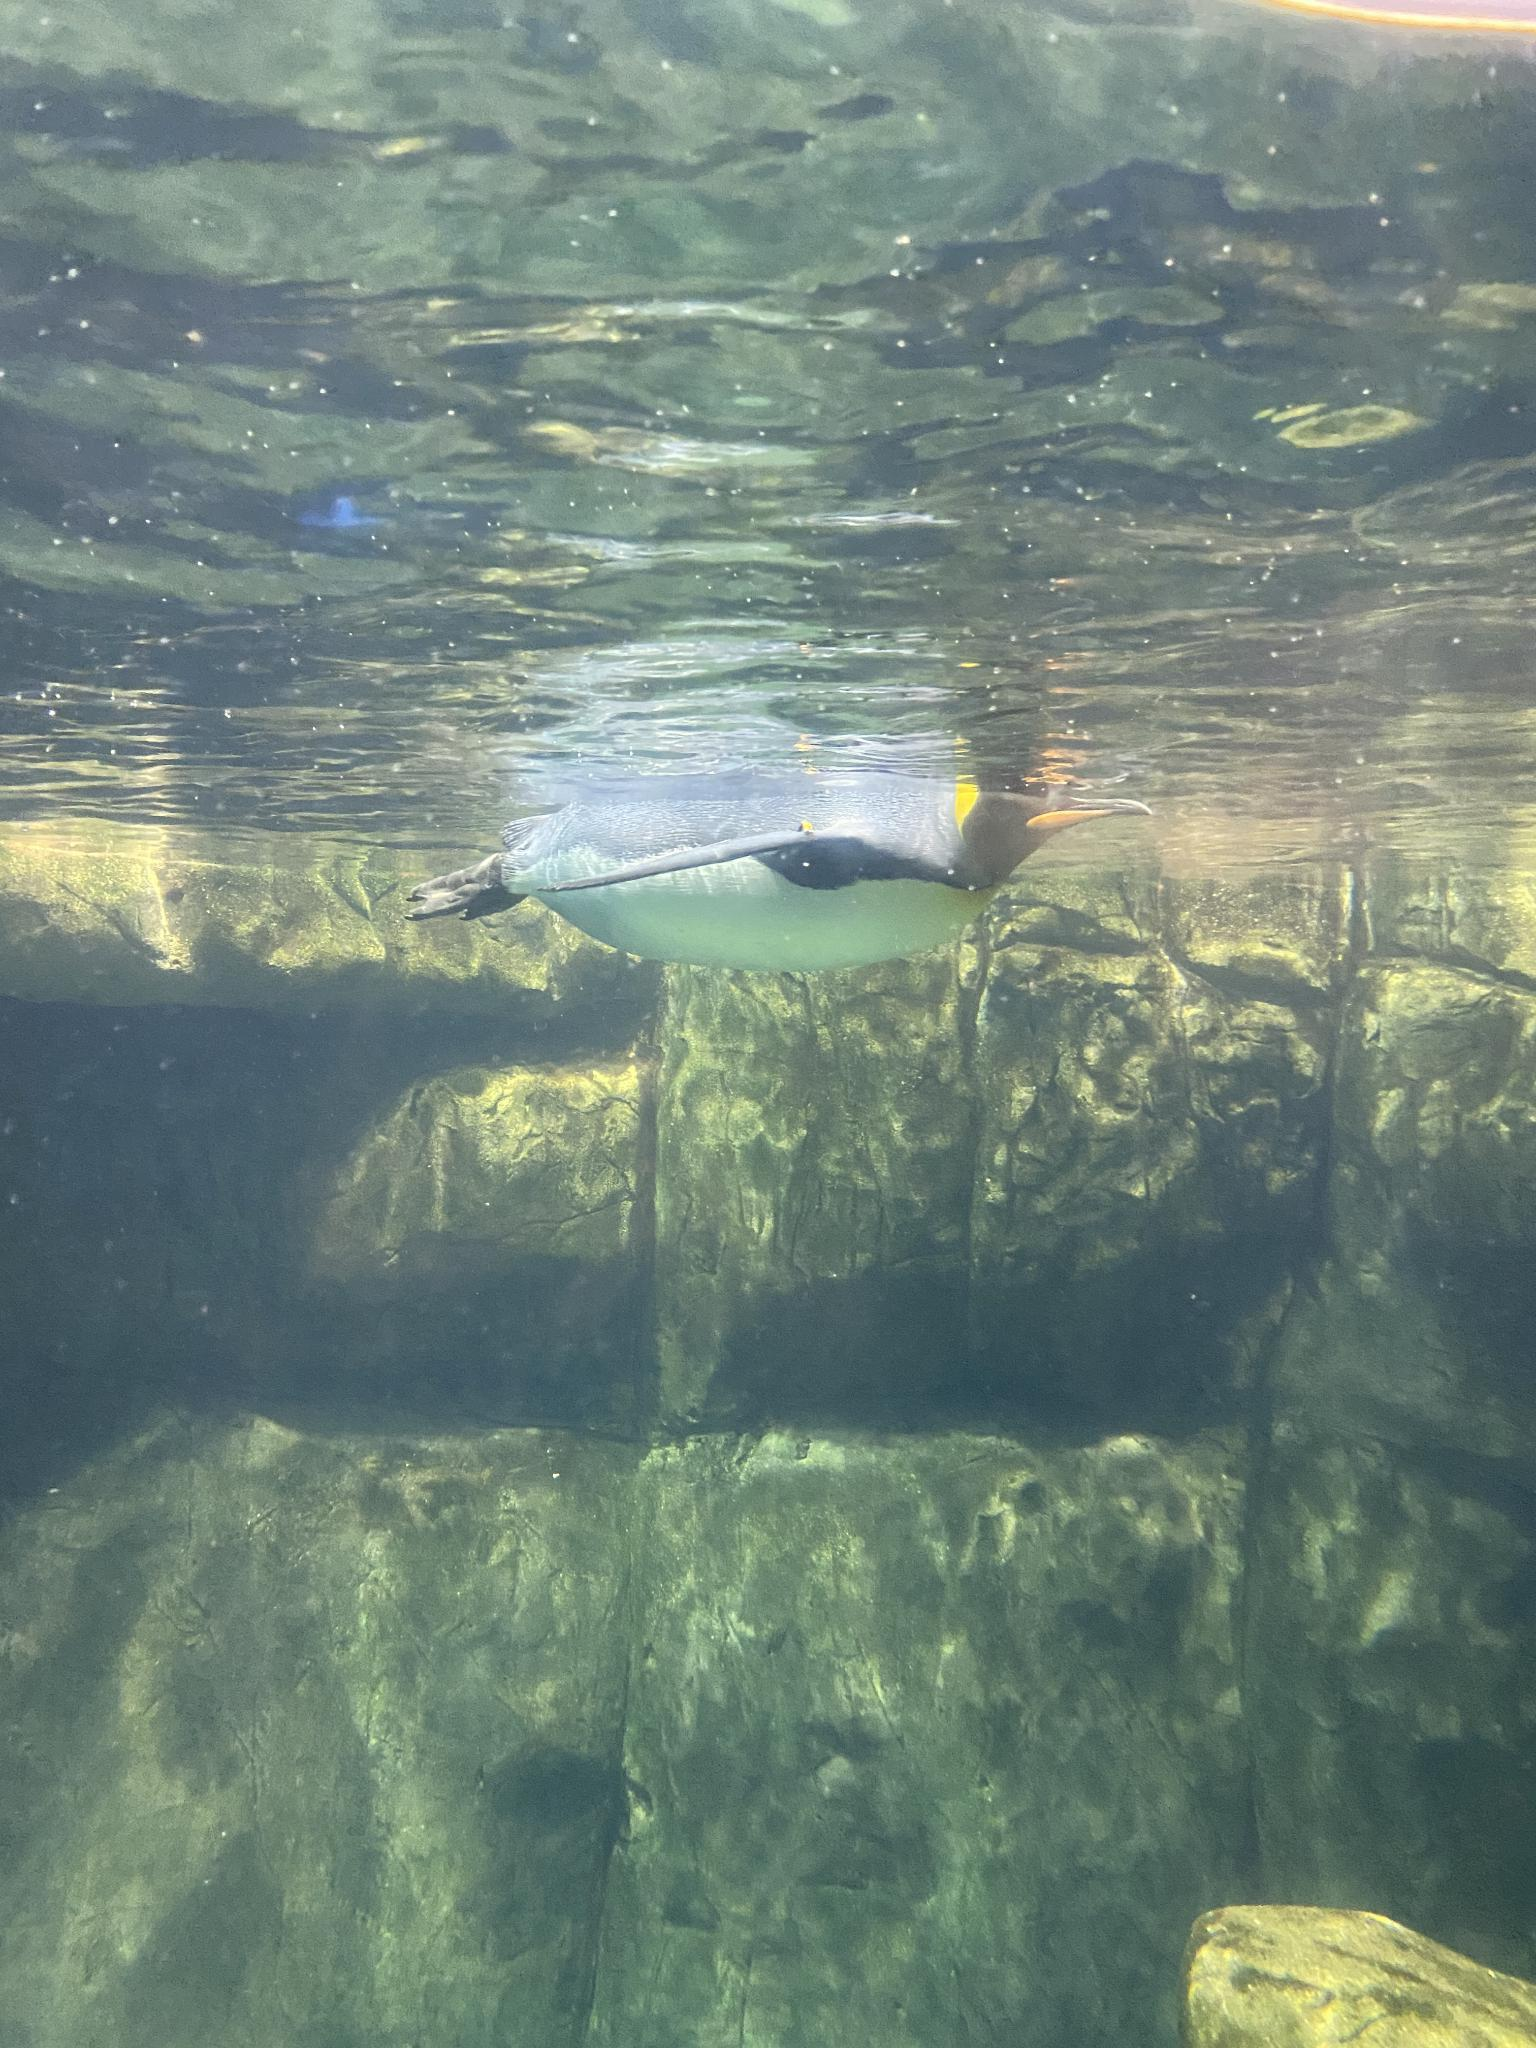penguin: (403, 772, 1155, 974)
